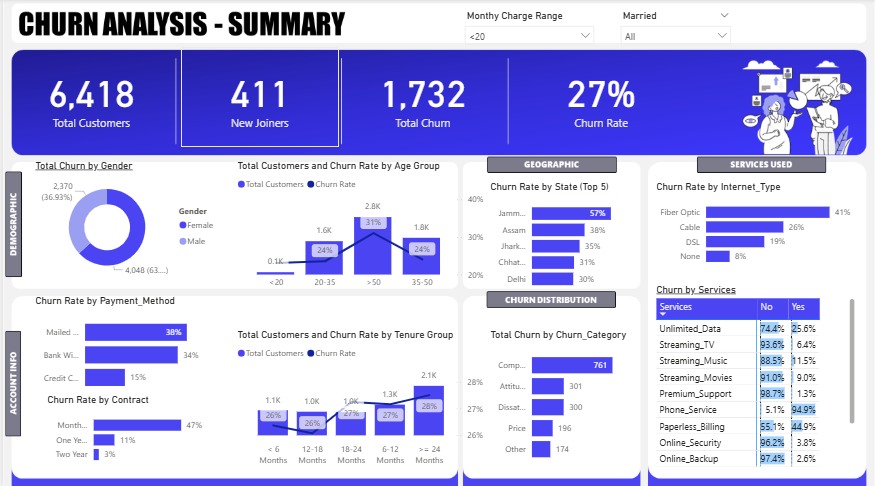

The dashboard page shown, as its layout file describes it:
{"tool":"powerbi","page":{"name":"Summary","canvas":[1280,720],"ordinal":0},"visuals":[{"type":"card","fields":{"Values":["Tbl_Measures.Total Customers"]},"box":[13.3,71.7,233.3,146.7],"z":0},{"type":"card","fields":{"Values":["Tbl_Measures.New Joiners"]},"box":[261.7,71.7,231.7,146.7],"z":1000},{"type":"card","fields":{"Values":["Tbl_Measures.Total Churn"]},"box":[493.3,71.7,246.7,146.7],"z":2000},{"type":"card","fields":{"Values":["Tbl_Measures.Churn Rate"]},"box":[740,71.7,276.7,146.7],"z":3000},{"type":"donutChart","title":"Total Churn by Gender","fields":{"Category":["prod_Churn.Gender"],"Y":["Tbl_Measures.Total Customers"]},"box":[43.3,238.3,281.7,181.7],"z":4000},{"type":"lineStackedColumnComboChart","fields":{"Category":["mapping_AgeGrp.Age Group"],"Y":["Tbl_Measures.Total Customers"],"Y2":["Tbl_Measures.Churn Rate"]},"box":[340,238.3,371.7,198.3],"z":5000},{"type":"clusteredBarChart","fields":{"Category":["prod_Churn.Payment_Method"],"Y":["Tbl_Measures.Churn Rate"]},"box":[43.3,436.7,260,153.3],"z":6000},{"type":"clusteredBarChart","fields":{"Category":["prod_Churn.Contract"],"Y":["Tbl_Measures.Churn Rate"]},"box":[60,581.7,238.3,111.7],"z":7000},{"type":"lineStackedColumnComboChart","fields":{"Category":["mapping_TenureGrp.Tenure Group"],"Y":["Tbl_Measures.Total Customers"],"Y2":["Tbl_Measures.Churn Rate"]},"box":[340,486.4,370.9,207.3],"z":8000},{"type":"clusteredBarChart","title":"Churn Rate by State (Top 5)","fields":{"Category":["prod_Churn.State"],"Y":["Tbl_Measures.Churn Rate"]},"box":[711.7,268.3,213.3,168.3],"z":9000},{"type":"clusteredBarChart","fields":{"Category":["prod_Churn.Churn_Category"],"Y":["Tbl_Measures.Total Churn"]},"box":[711.7,486.7,213.3,206.7],"z":10000},{"type":"clusteredBarChart","fields":{"Category":["prod_Churn.Internet_Type"],"Y":["Tbl_Measures.Churn Rate"]},"box":[955,268.3,301.7,133.3],"z":11000},{"type":"pivotTable","title":"Churn by Services","fields":{"Rows":["prod_Services.Services"],"Columns":["prod_Services.Status"],"Values":["Sum(prod_Services.Churn Status)"]},"box":[955,420,301.7,273.3],"z":12000},{"type":"slicer","fields":{"Values":["prod_Services.Monthy Charge Status"]},"box":[668.3,13.3,210,58.3],"z":13000},{"type":"slicer","fields":{"Values":["prod_Services.Married"]},"box":[898.3,13.3,181.7,58.3],"z":14000}]}

Visuals, with their boxes in screenshot pixels (x1, y1, x2, y2), scaled from the page's 1280x720 canvas onto the 875x486 screenshot:
card - Tbl_Measures.Total Customers: BBox(9, 48, 169, 147)
card - Tbl_Measures.New Joiners: BBox(179, 48, 337, 147)
card - Tbl_Measures.Total Churn: BBox(337, 48, 506, 147)
card - Tbl_Measures.Churn Rate: BBox(506, 48, 695, 147)
"Total Churn by Gender" donutChart: BBox(30, 161, 222, 284)
lineStackedColumnComboChart - mapping_AgeGrp.Age Group x Tbl_Measures.Total Customers: BBox(232, 161, 487, 295)
clusteredBarChart - prod_Churn.Payment_Method x Tbl_Measures.Churn Rate: BBox(30, 295, 207, 398)
clusteredBarChart - prod_Churn.Contract x Tbl_Measures.Churn Rate: BBox(41, 393, 204, 468)
lineStackedColumnComboChart - mapping_TenureGrp.Tenure Group x Tbl_Measures.Total Customers: BBox(232, 328, 486, 468)
"Churn Rate by State (Top 5)" clusteredBarChart: BBox(487, 181, 632, 295)
clusteredBarChart - prod_Churn.Churn_Category x Tbl_Measures.Total Churn: BBox(487, 329, 632, 468)
clusteredBarChart - prod_Churn.Internet_Type x Tbl_Measures.Churn Rate: BBox(653, 181, 859, 271)
"Churn by Services" pivotTable: BBox(653, 284, 859, 468)
slicer - prod_Services.Monthy Charge Status: BBox(457, 9, 600, 48)
slicer - prod_Services.Married: BBox(614, 9, 738, 48)
